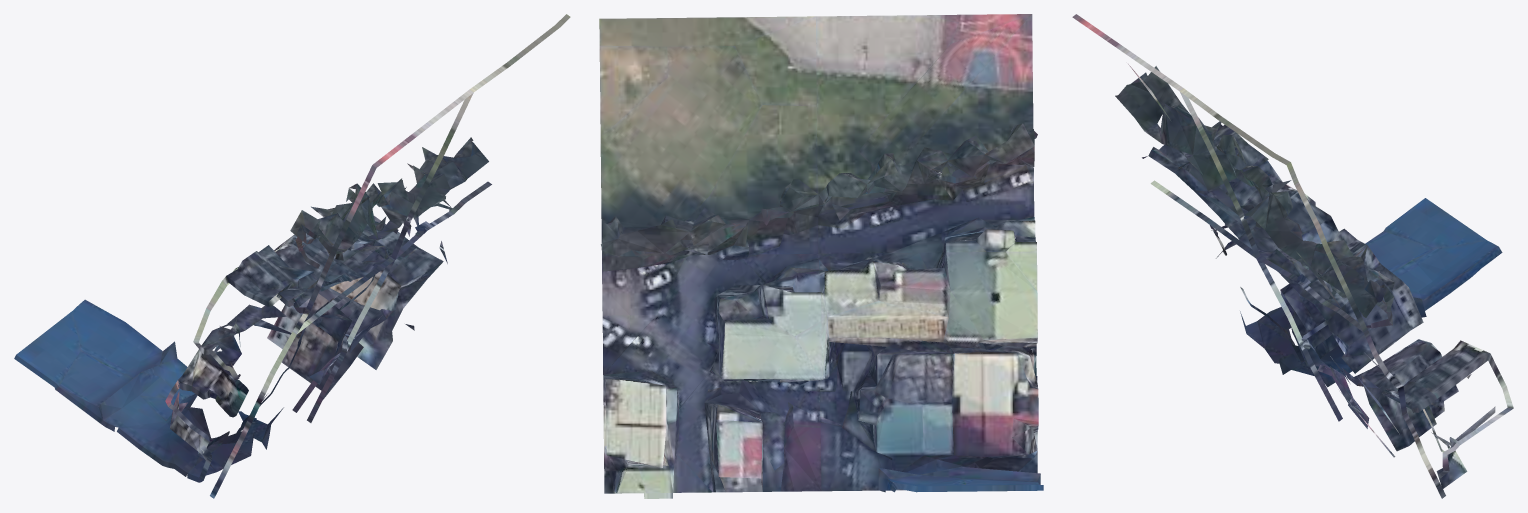
3 renders of one model, left to right at view 1: azimuth 30°, elevation 25°; view 2: azimuth 150°, elevation 25°; view 3: azimuth 270°, elevation 25°, orthographic. The views are drawn at different scales.
Size of the model in its own units: 95.89 by 70.03 by 74.55.
Materials: 1 (1 with a texture image).
